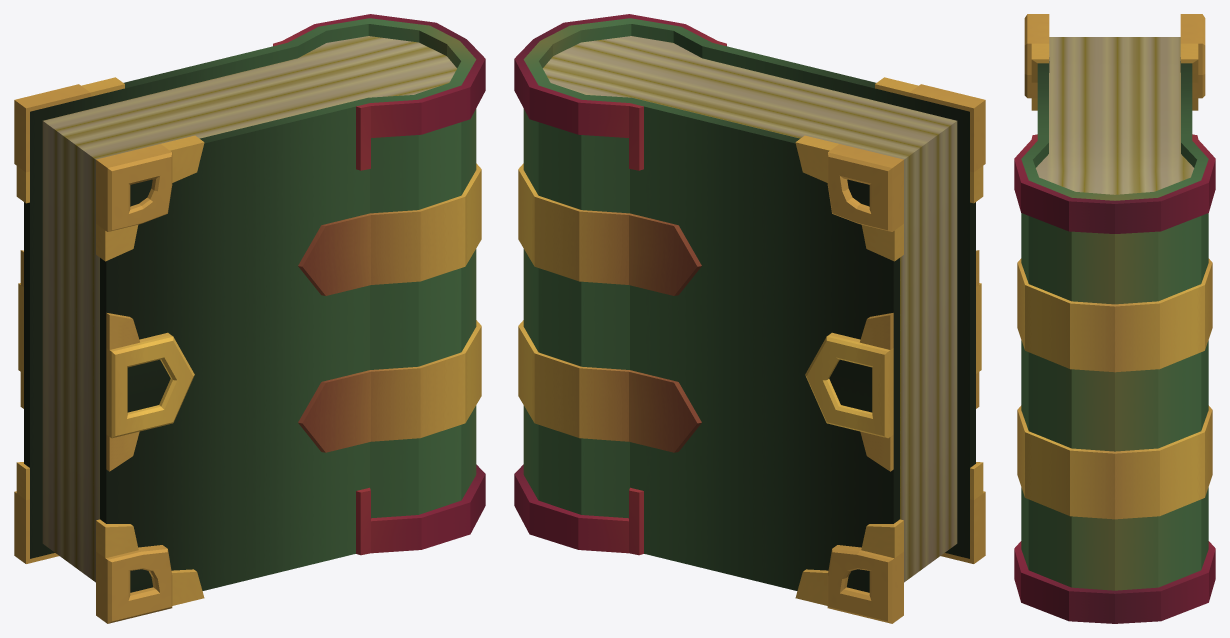
Rendered from Book_3.fbx.
The picture shows the model from 3 angles, left to right: view 1: azimuth 30°, elevation 25°; view 2: azimuth 150°, elevation 25°; view 3: azimuth 270°, elevation 25°; orthographic projection. The views are drawn at different scales.
Visible parts, largest first — view 1: Book_4; view 2: Book_4; view 3: Book_4.
Boxes of the visible parts, left/top/right/bottom form: Book_4: left=14, top=14, right=485, bottom=623; Book_4: left=514, top=14, right=985, bottom=623; Book_4: left=1014, top=14, right=1215, bottom=623.
Size of the model in its own units: 29.58 by 31.74 by 13.55.
